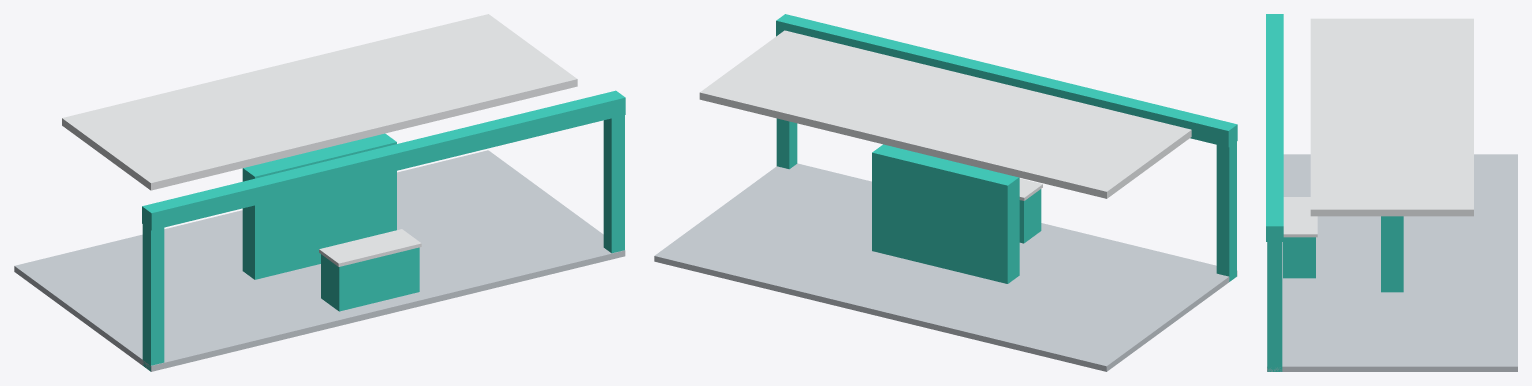
3 renders of one model, left to right at view 1: azimuth 30°, elevation 25°; view 2: azimuth 150°, elevation 25°; view 3: azimuth 270°, elevation 25°, orthographic. The views are drawn at different scales.
Parts seen in each view (by area): view 1: Exhibition Booth Concept; view 2: Exhibition Booth Concept; view 3: Exhibition Booth Concept.
Boxes of the visible parts, x1=… form: Exhibition Booth Concept: x1=14, y1=14, x2=625, y2=371; Exhibition Booth Concept: x1=654, y1=14, x2=1237, y2=371; Exhibition Booth Concept: x1=1266, y1=14, x2=1517, y2=371.
Size of the model in its own units: 10 by 3.34 by 5.02.
